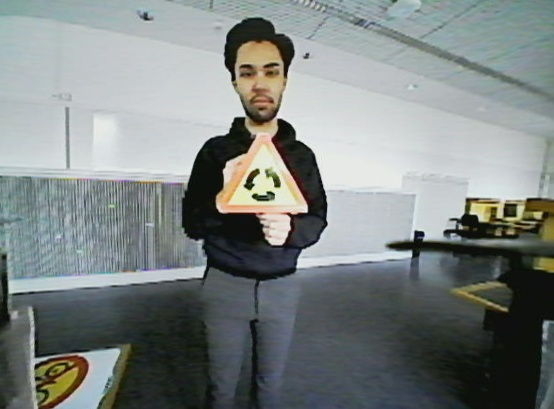roundabout_warning: (215, 130, 312, 219)
